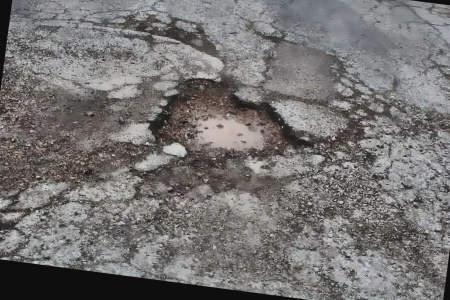pothole: (140, 65, 319, 180)
